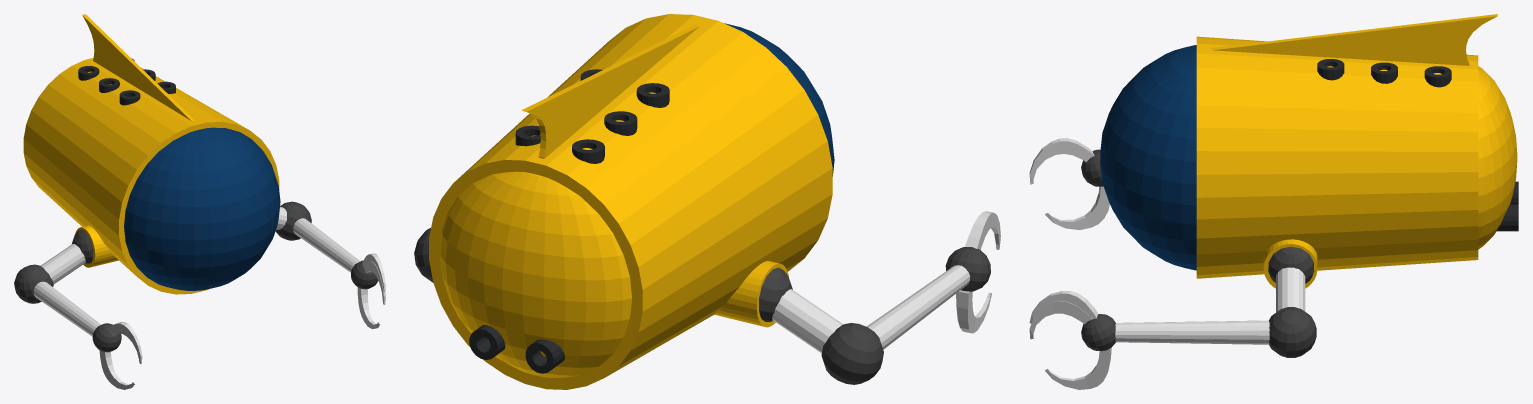
The model's file is Sub_2_after_merge2.gltf.
3 renders of one model, left to right at view 1: azimuth 30°, elevation 25°; view 2: azimuth 150°, elevation 25°; view 3: azimuth 270°, elevation 25°, orthographic. The views are drawn at different scales.
Parts seen in each view (by area): view 1: body, Window, leftForeArm (×2), breathers, rightShoulderArm, rightElbowJoint, leftElbowJoint, rightWrist, bottomRightClaw, leftWrist, topRightClaw, rightShoulderJoint (+1 smaller); view 2: body, rightElbowJoint, leftForeArm, breathers, rightShoulderArm, thrusters, Window, rightWrist, rightShoulderJoint, bottomRightClaw, topRightClaw, leftElbowJoint; view 3: body, Window, leftForeArm, leftElbowJoint, topLeftClaw (×2), breathers, leftShoulderArm, leftShoulderJoint, leftWrist, topRightClaw, bottomLeftClaw, bottomRightClaw (+2 smaller).
Boxes of the visible parts, box(x1,y1,x2,y2) form: body: box(23, 14, 279, 294); Window: box(124, 127, 280, 290); leftForeArm (×2): box(33, 218, 360, 336); breathers: box(78, 58, 175, 105); rightShoulderArm: box(40, 244, 85, 284); rightElbowJoint: box(14, 264, 53, 303); leftElbowJoint: box(275, 201, 311, 240); rightWrist: box(92, 323, 121, 352); bottomRightClaw: box(99, 350, 135, 389); leftWrist: box(351, 260, 378, 289); topRightClaw: box(107, 322, 142, 364); rightShoulderJoint: box(72, 229, 93, 263); body: box(429, 14, 832, 389); rightElbowJoint: box(821, 323, 883, 384); leftForeArm: box(866, 265, 970, 349); breathers: box(515, 69, 669, 163); rightShoulderArm: box(772, 289, 843, 353); thrusters: box(469, 325, 564, 373); Window: box(724, 23, 834, 176); rightWrist: box(945, 247, 990, 291); rightShoulderJoint: box(759, 267, 792, 321); bottomRightClaw: box(956, 290, 991, 333); topRightClaw: box(965, 211, 1000, 249); leftElbowJoint: box(414, 228, 433, 282); body: box(1196, 14, 1517, 288); Window: box(1100, 45, 1196, 270); leftForeArm: box(1115, 320, 1269, 344); leftElbowJoint: box(1269, 307, 1316, 357); topLeftClaw (×2): box(1029, 291, 1098, 339); breathers: box(1317, 59, 1451, 87); leftShoulderArm: box(1276, 267, 1305, 312); leftShoulderJoint: box(1268, 246, 1314, 283); leftWrist: box(1081, 314, 1115, 351); topRightClaw: box(1029, 138, 1094, 184); bottomLeftClaw: box(1045, 347, 1111, 389); bottomRightClaw: box(1045, 186, 1109, 229).
Size of the model in its own units: 2.05 by 1.51 by 2.28.
1 material, 1 textured.
